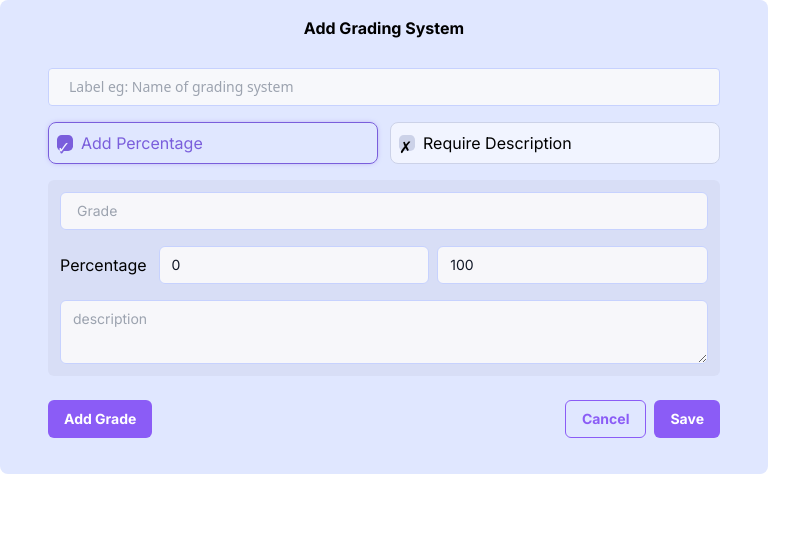
Scenario: AddGradingSystem › Form Validation › should show validation error for empty name
Step 1. Click the button "Save" → (687, 419), box [654,400,720,438]
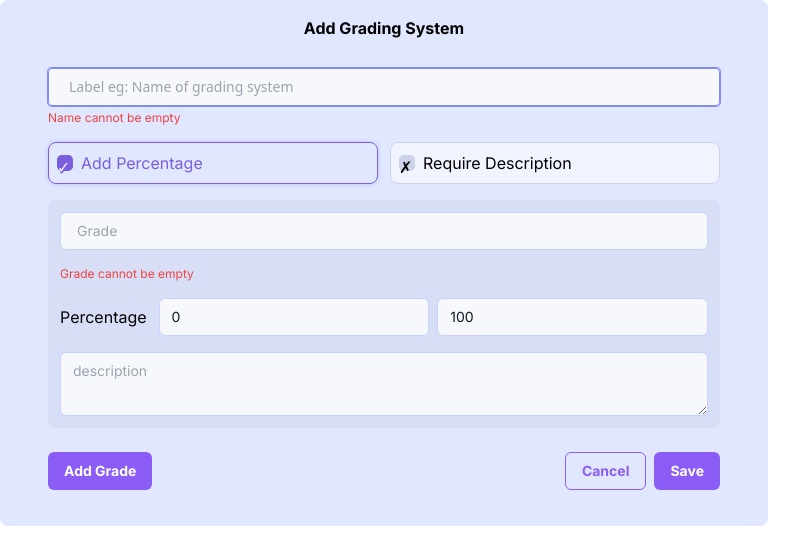
Expected: the text "Name cannot be empty" is shown, [48,110,180,125]
